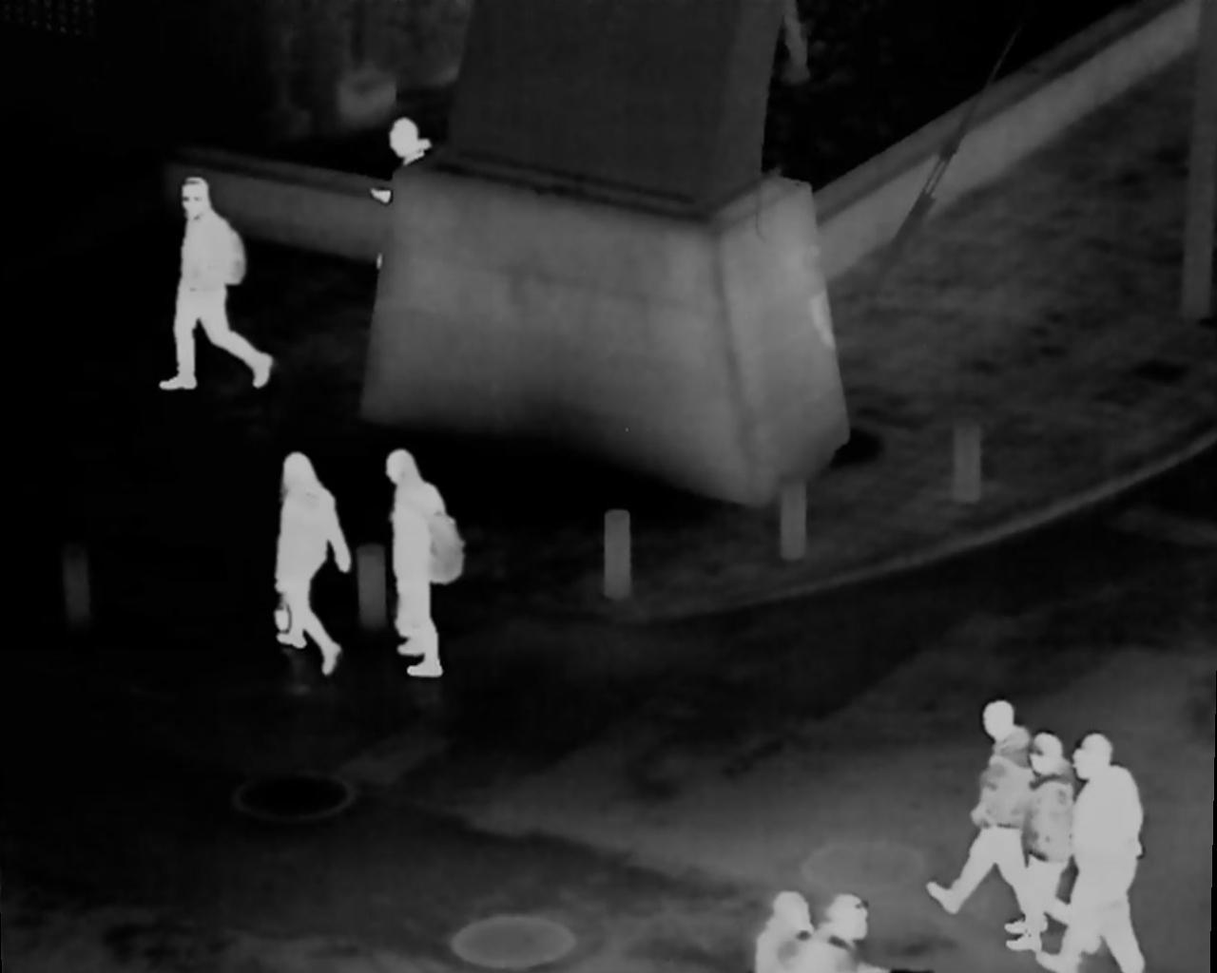person: (159, 173, 281, 394), (1038, 736, 1147, 973), (929, 699, 1035, 939), (274, 452, 357, 680), (385, 448, 465, 681), (1006, 733, 1072, 948), (796, 894, 898, 967), (751, 891, 821, 973), (371, 119, 434, 208)
